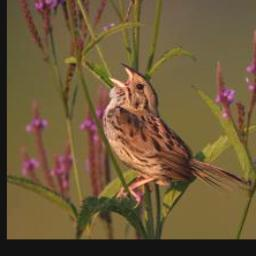Sparrow: (101, 62, 256, 213)
